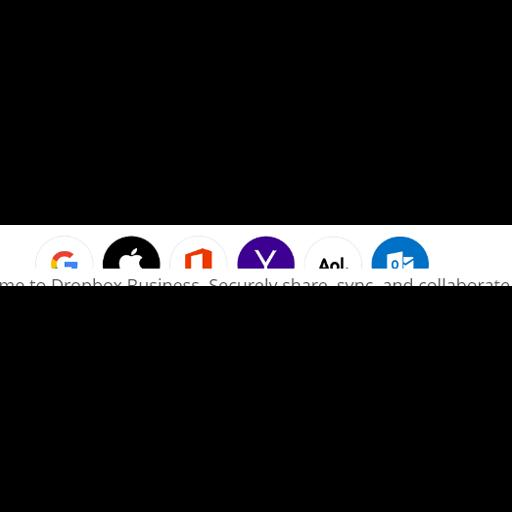Dropbox: (0, 225, 512, 286)
